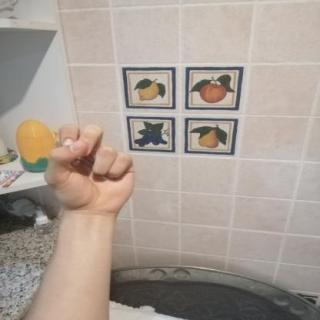QAAF: (36, 117, 148, 225)
